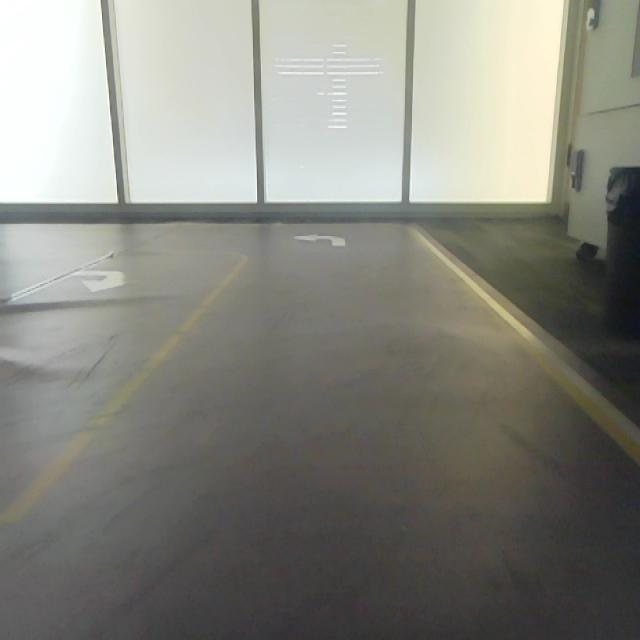left_lane: (0, 255, 248, 550)
right_lane: (412, 231, 640, 465)
